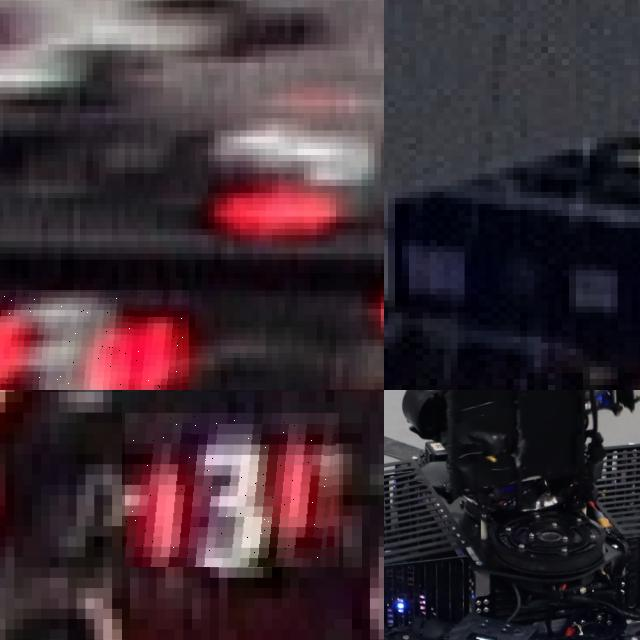R3: (125, 413, 339, 567), (0, 290, 189, 390)
